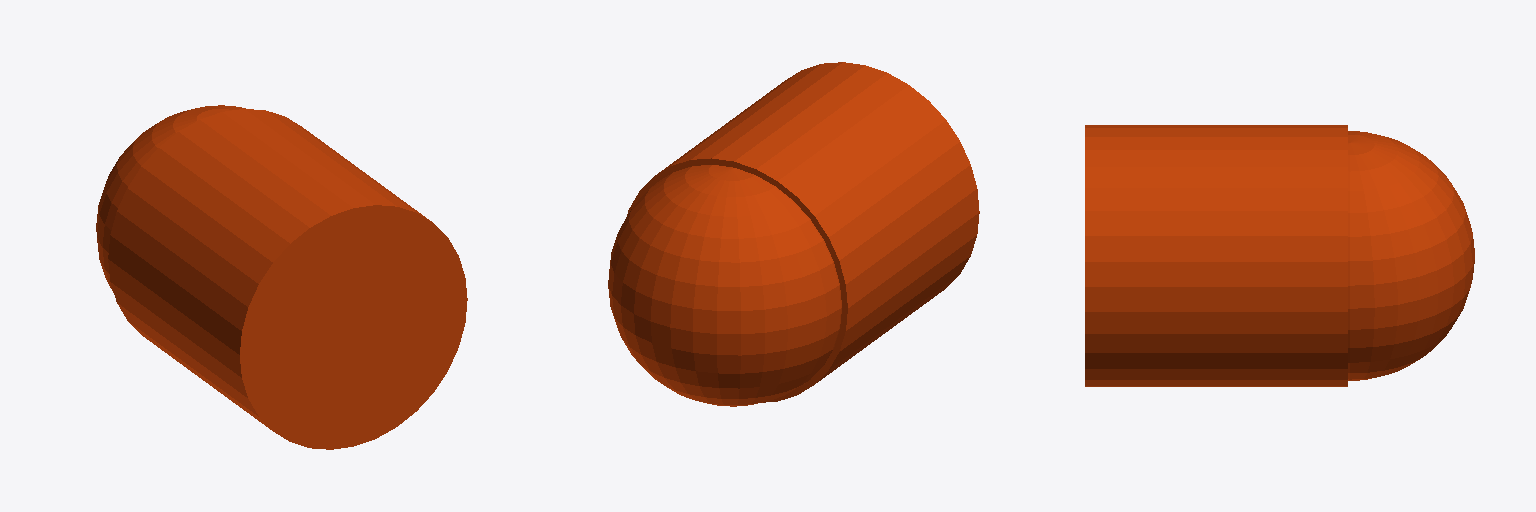
Rendered from bullet.obj.
3 renders of one model, left to right at view 1: azimuth 30°, elevation 25°; view 2: azimuth 150°, elevation 25°; view 3: azimuth 270°, elevation 25°, orthographic.
Parts seen in each view (by area): view 1: Cylinder, Sphere; view 2: Cylinder, Sphere; view 3: Cylinder, Sphere.
Boxes of the visible parts, box(x1,y1,x2,y2) form: Cylinder: box(108, 109, 467, 449); Sphere: box(96, 105, 245, 292); Cylinder: box(626, 62, 979, 402); Sphere: box(608, 165, 841, 406); Cylinder: box(1085, 125, 1347, 386); Sphere: box(1348, 131, 1474, 380).
Size of the model in its own units: 0.4463 by 0.4463 by 0.6624.